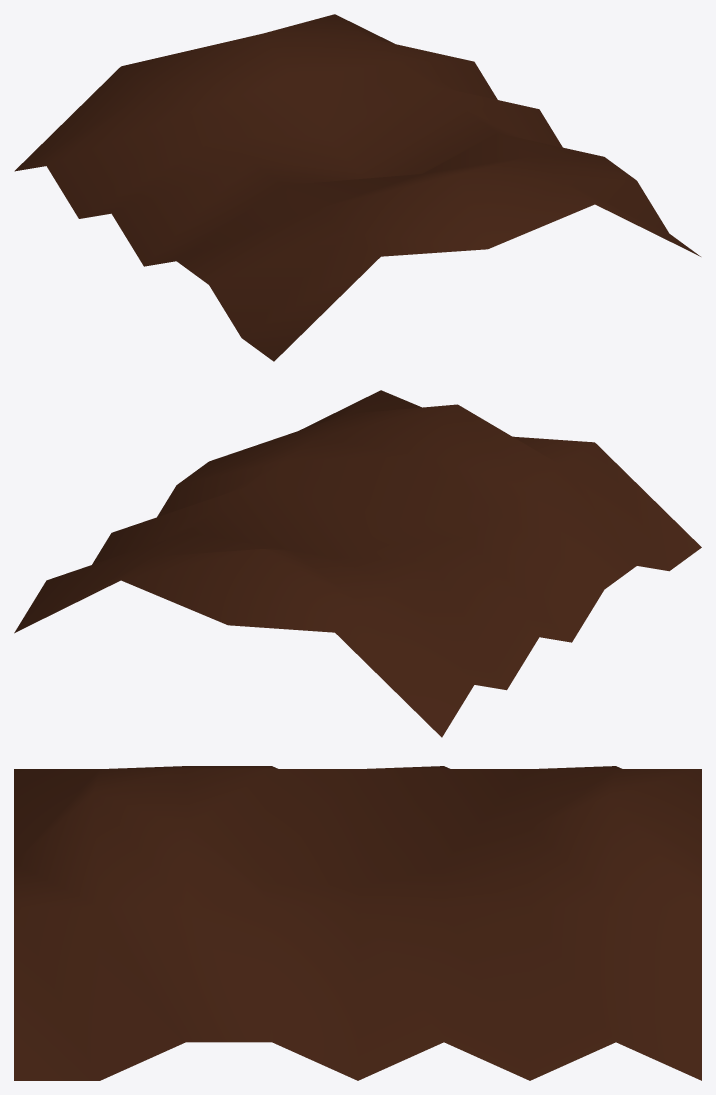
Rendered from TERRA.fbx.
3 views of the same model, one above another, from view 1: azimuth 30°, elevation 25°; view 2: azimuth 150°, elevation 25°; view 3: azimuth 270°, elevation 25° (orthographic). The views are drawn at different scales.
Visible parts, largest first — view 1: Plane; view 2: Plane; view 3: Plane.
Part boxes in pixels (x1,y1,x2,y2): Plane: [14, 14, 700, 361]; Plane: [14, 390, 701, 737]; Plane: [14, 766, 701, 1080].
Size of the model in its own units: 69.9 by 17.62 by 73.56.
